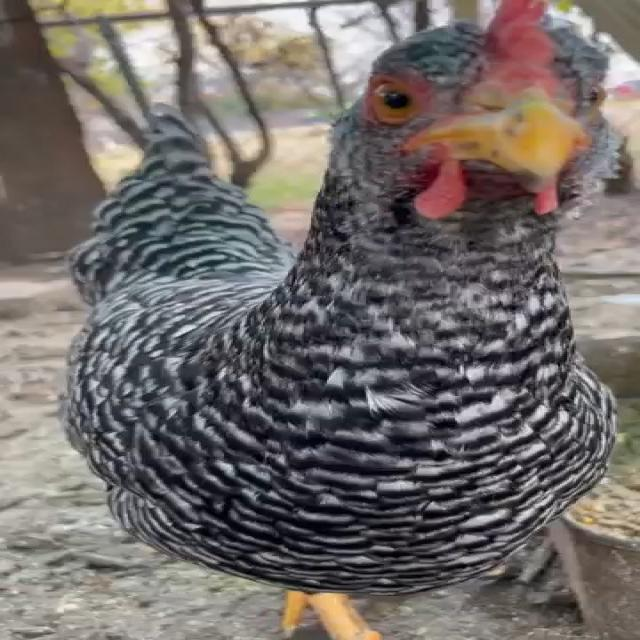menacing: (53, 0, 622, 618)
